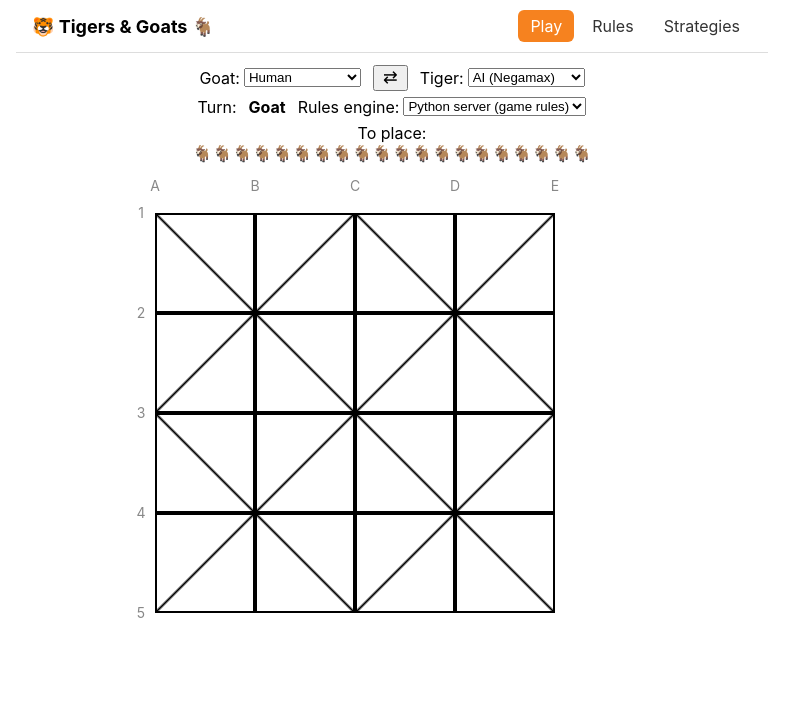
Test case: offers Jev for both goats and tigers
The width and height of the screenshot is (785, 713).
Expected: the text "Rules engine:" is shown, [298,97,586,117]
Select "Jev (Cloudflare)" in the dropdown labelled "Goat:" at (302, 78), box [244,68,361,87]
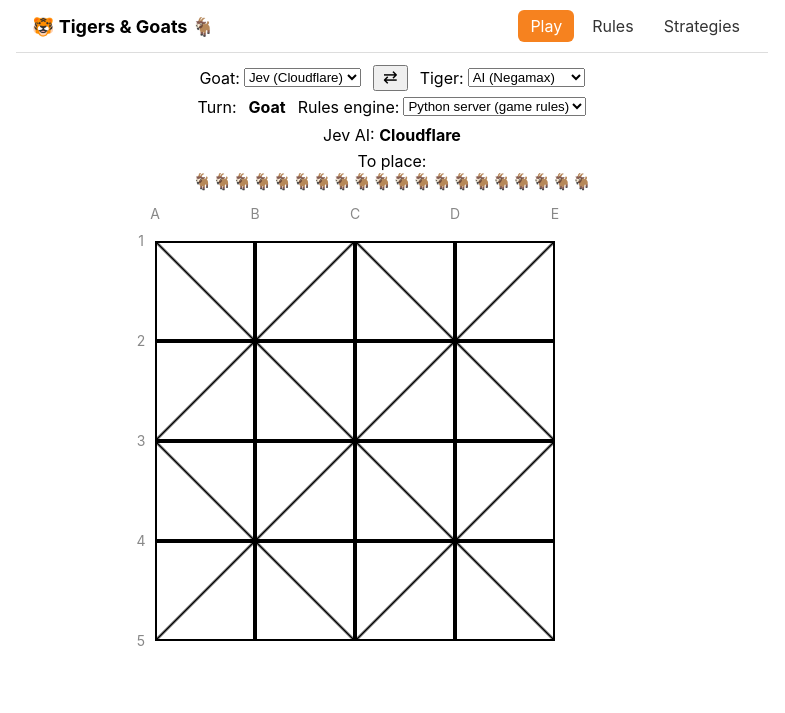
Expected: the text "Jev AI:" is shown, [323,125,379,145]
Expected: the text "Cloudflare" is shown, [379,125,461,145]
